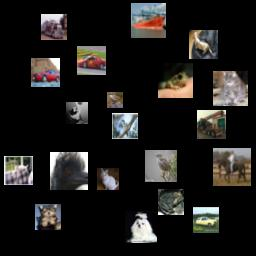automobile: (77, 46, 106, 75), (31, 58, 60, 87), (193, 207, 219, 233)
bird: (50, 152, 88, 190), (145, 150, 177, 182), (112, 113, 138, 139), (107, 92, 123, 108)
cat: (213, 71, 248, 106), (4, 156, 33, 185), (97, 168, 119, 190), (66, 102, 88, 124)
dog: (125, 211, 157, 243), (189, 30, 218, 59), (35, 204, 61, 230)
frog: (158, 63, 193, 98), (158, 189, 184, 215)
ship: (131, 3, 166, 38)
truck: (197, 110, 226, 139), (41, 14, 67, 40)
